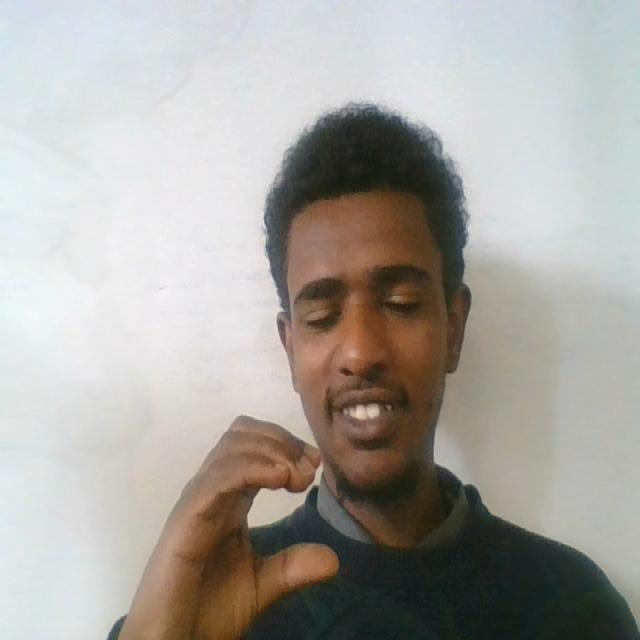no: (130, 395, 350, 640)
